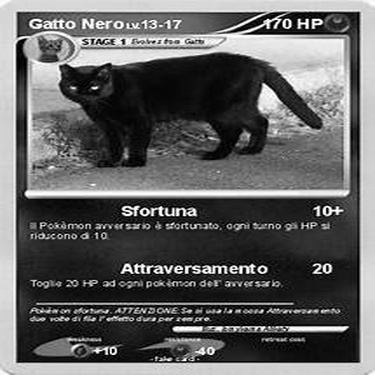cat: (59, 52, 326, 165), (35, 32, 67, 62)
